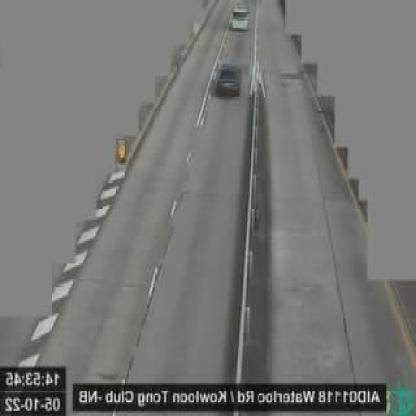Car: (213, 62, 242, 99), (230, 5, 251, 28)
